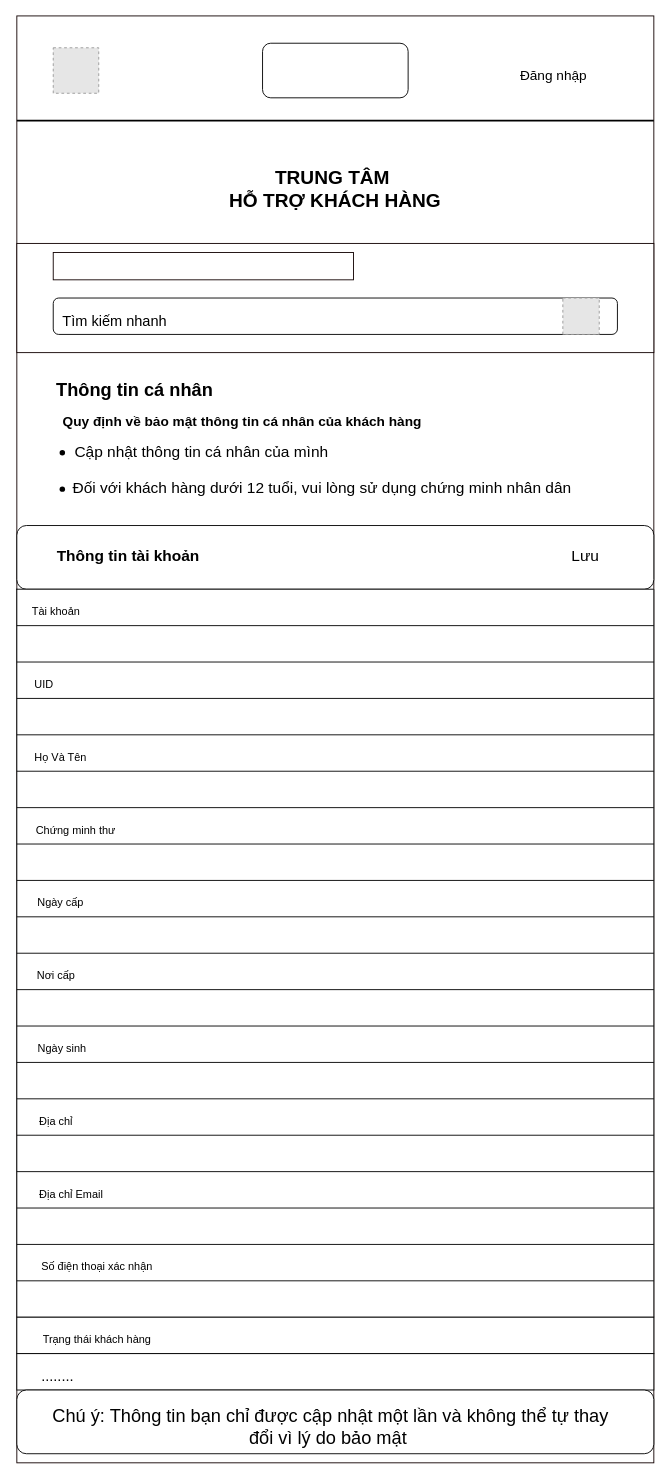
This 670x1479 diagram has some shape labels left out. Grey dashed boxes stand in for pictures. The centre of each missing label's shape, as x and y in pixels:
"< Trung tâm hỗ trợ < Thông tin cá nhân" goes at (x=203, y=266).
"LOGO" goes at (x=335, y=70).
